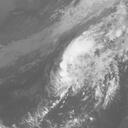cyclone: (54, 38, 109, 99)
